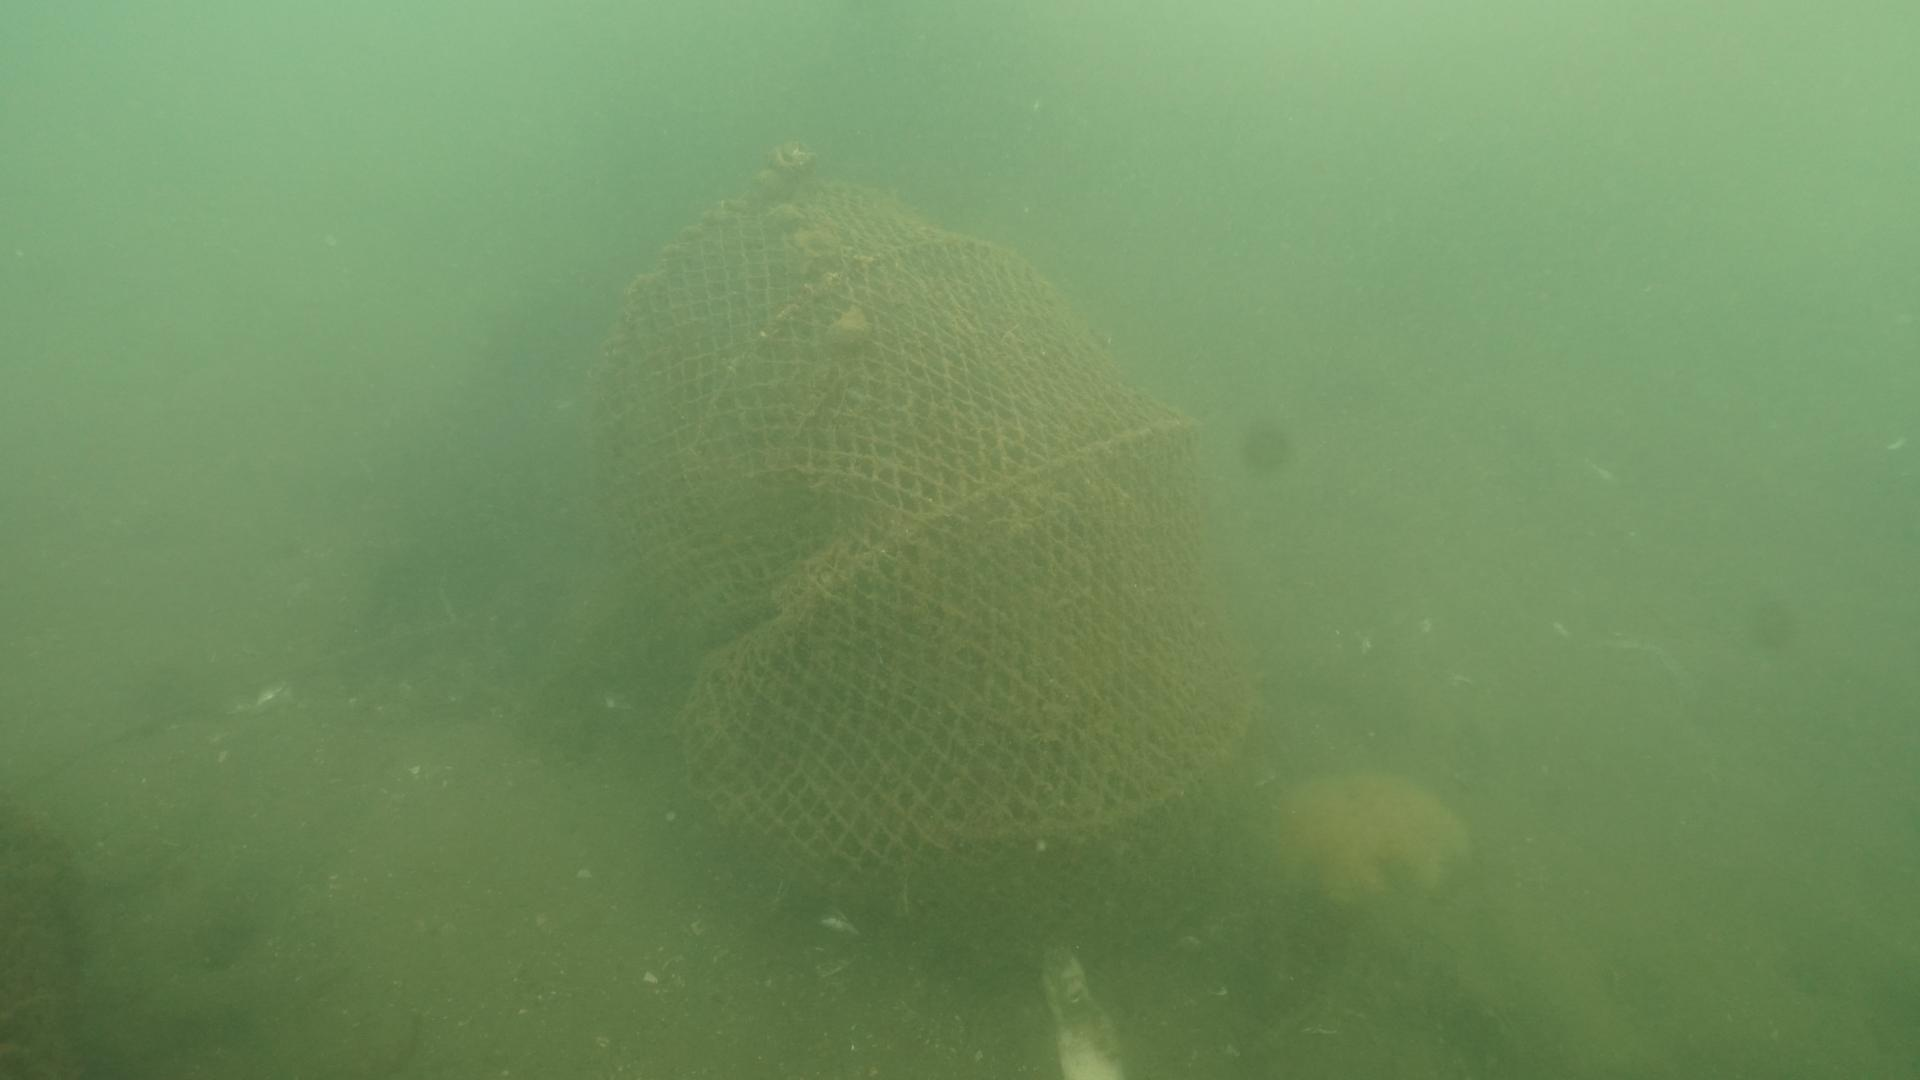spring fish trap: (582, 140, 1276, 957)
